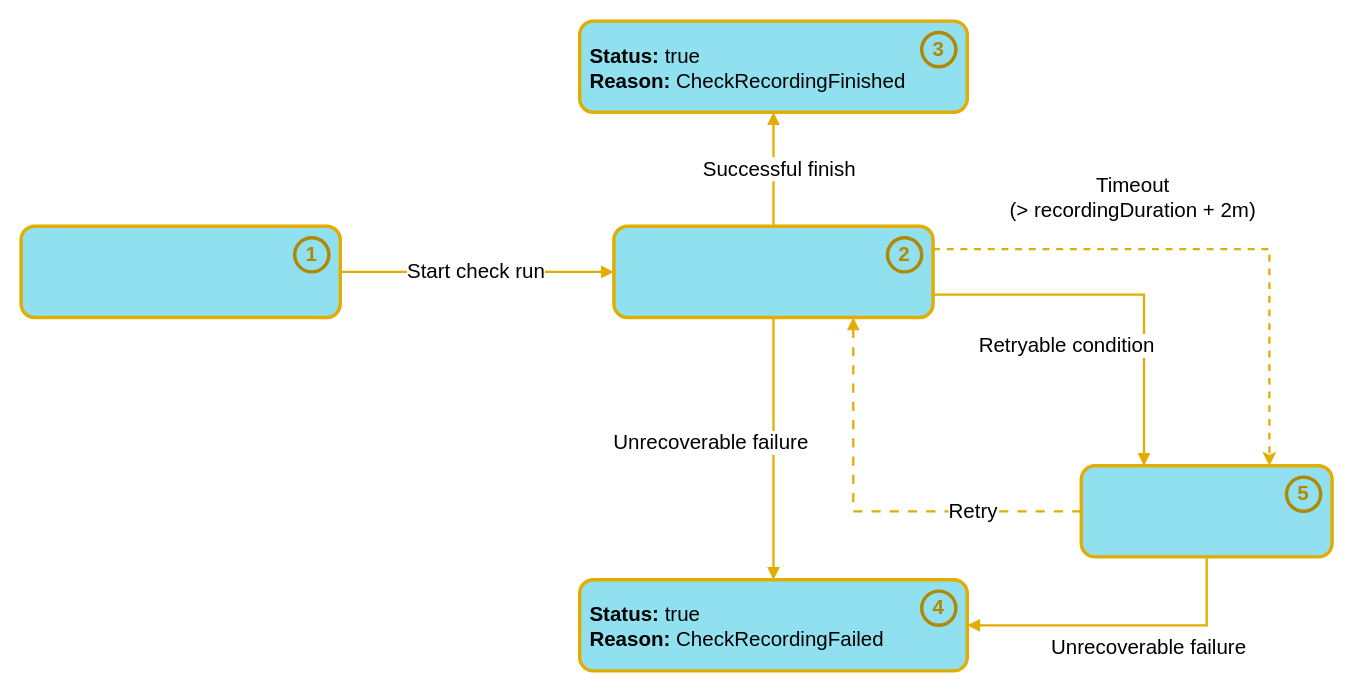
This 1353x692 diagram has some shape labels left out. Each missing label, with the box of its shape:
Status: false Reason: CheckRecording: (612, 224, 934, 319)
Status: unknown Reason: CheckNotStarted: (19, 224, 341, 319)
Status: unknown Reason: Requeue: (1079, 463, 1333, 558)
